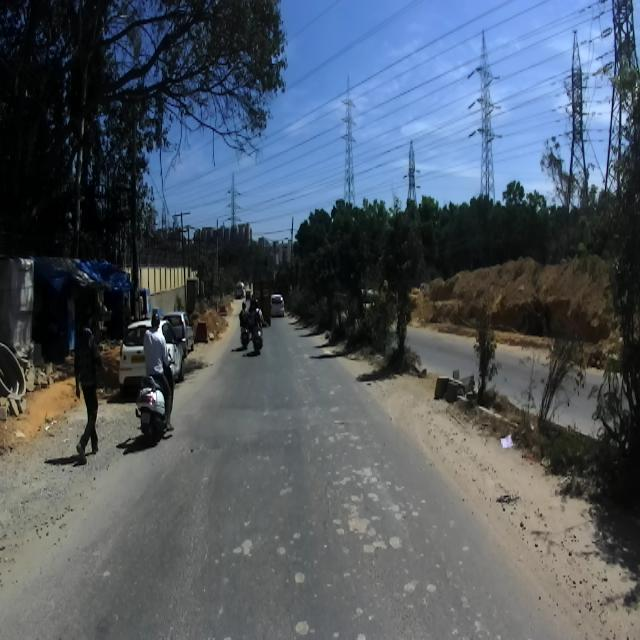motorcycle ahead at: (133, 376, 174, 455)
person ahead at: (68, 303, 110, 478)
